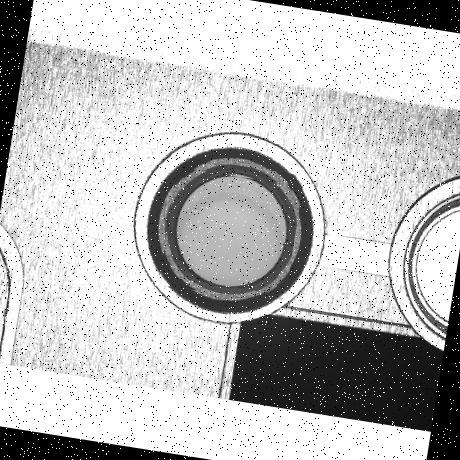Hole: (136, 136, 326, 326)
Hole2: (148, 148, 312, 312)
Hole3: (157, 156, 304, 304)
Hole4: (167, 168, 293, 294)
